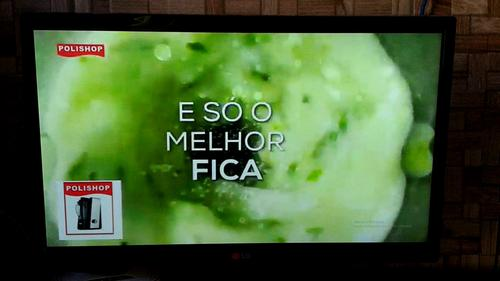Polishop #1: (56, 180, 123, 239)
